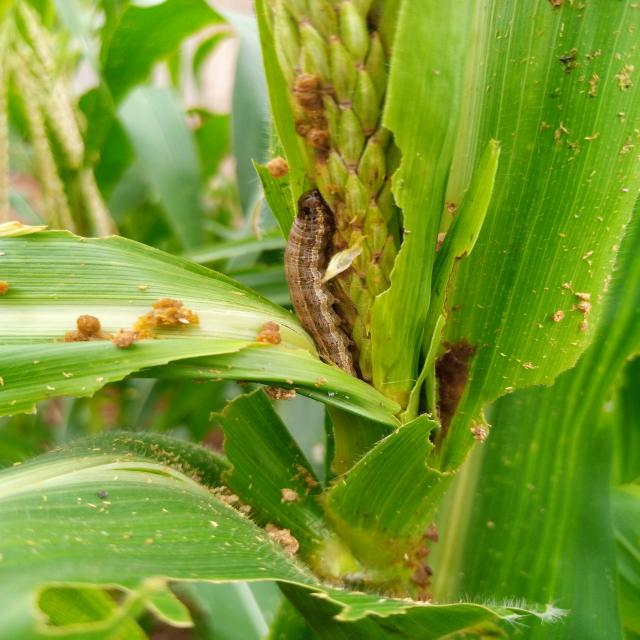yellow-stem-borer-larva: (260, 184, 371, 384)
